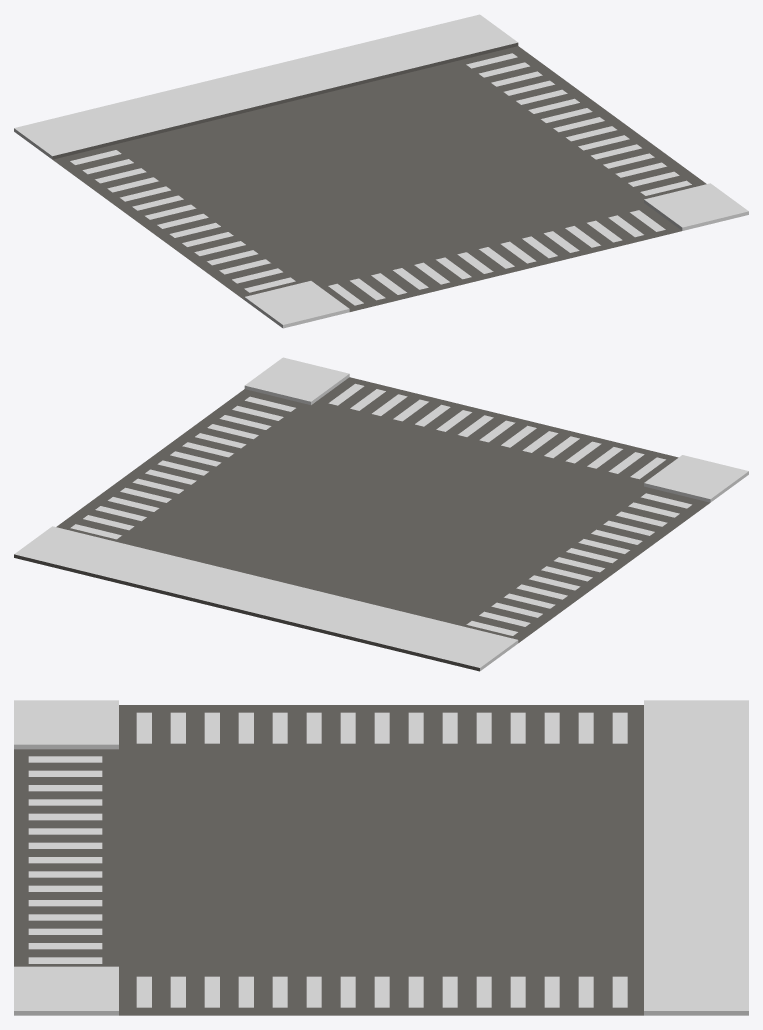
File: IntersectionBox.fbx
3 renders of one model, top to bottom at view 1: azimuth 30°, elevation 25°; view 2: azimuth 150°, elevation 25°; view 3: azimuth 270°, elevation 25°, orthographic. The views are drawn at different scales.
Visible parts, largest first — view 1: IntersectionT; view 2: IntersectionT; view 3: IntersectionT.
Part boxes in pixels (left/top/right/bottom): IntersectionT: left=14, top=14, right=748, bottom=328; IntersectionT: left=14, top=357, right=748, bottom=671; IntersectionT: left=14, top=700, right=748, bottom=1015.
Size of the model in its own units: 1400 by 10 by 1400.
